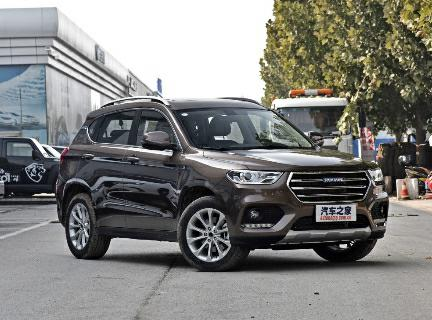哈弗-H2: (54, 95, 393, 271)
